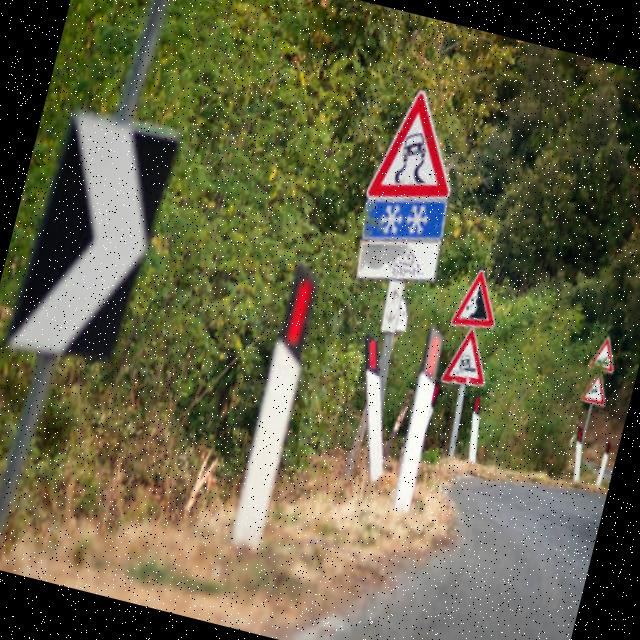road_slippery: (361, 74, 473, 213)
